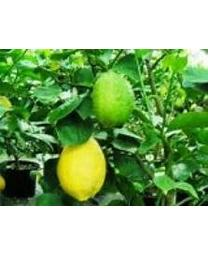lemon: (59, 139, 106, 201), (92, 71, 134, 129)
